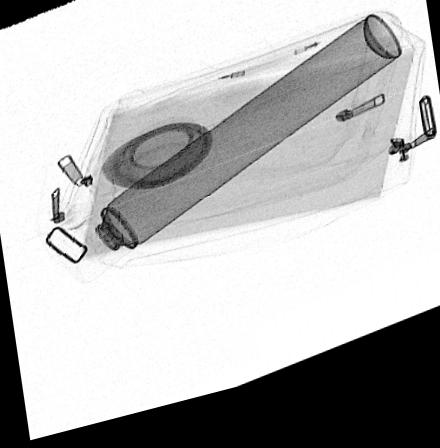Sprayer: (46, 34, 400, 287)
